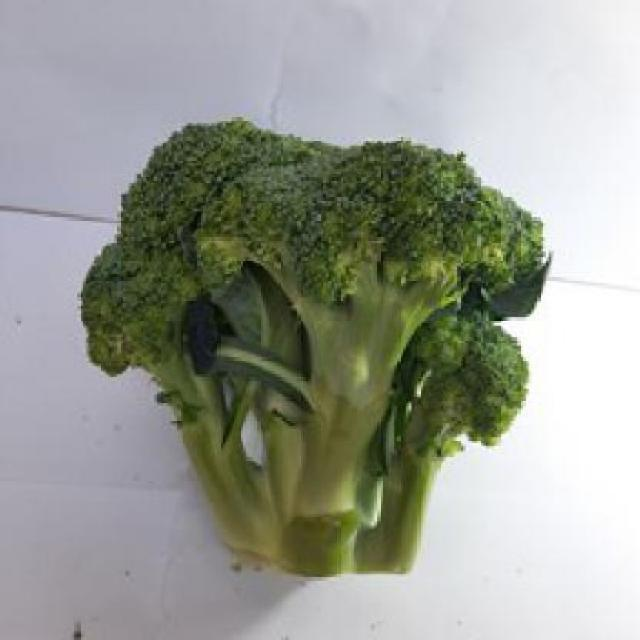broccoli: (89, 114, 552, 583)
